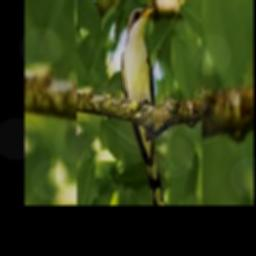Cuckoo: (121, 6, 164, 205)
